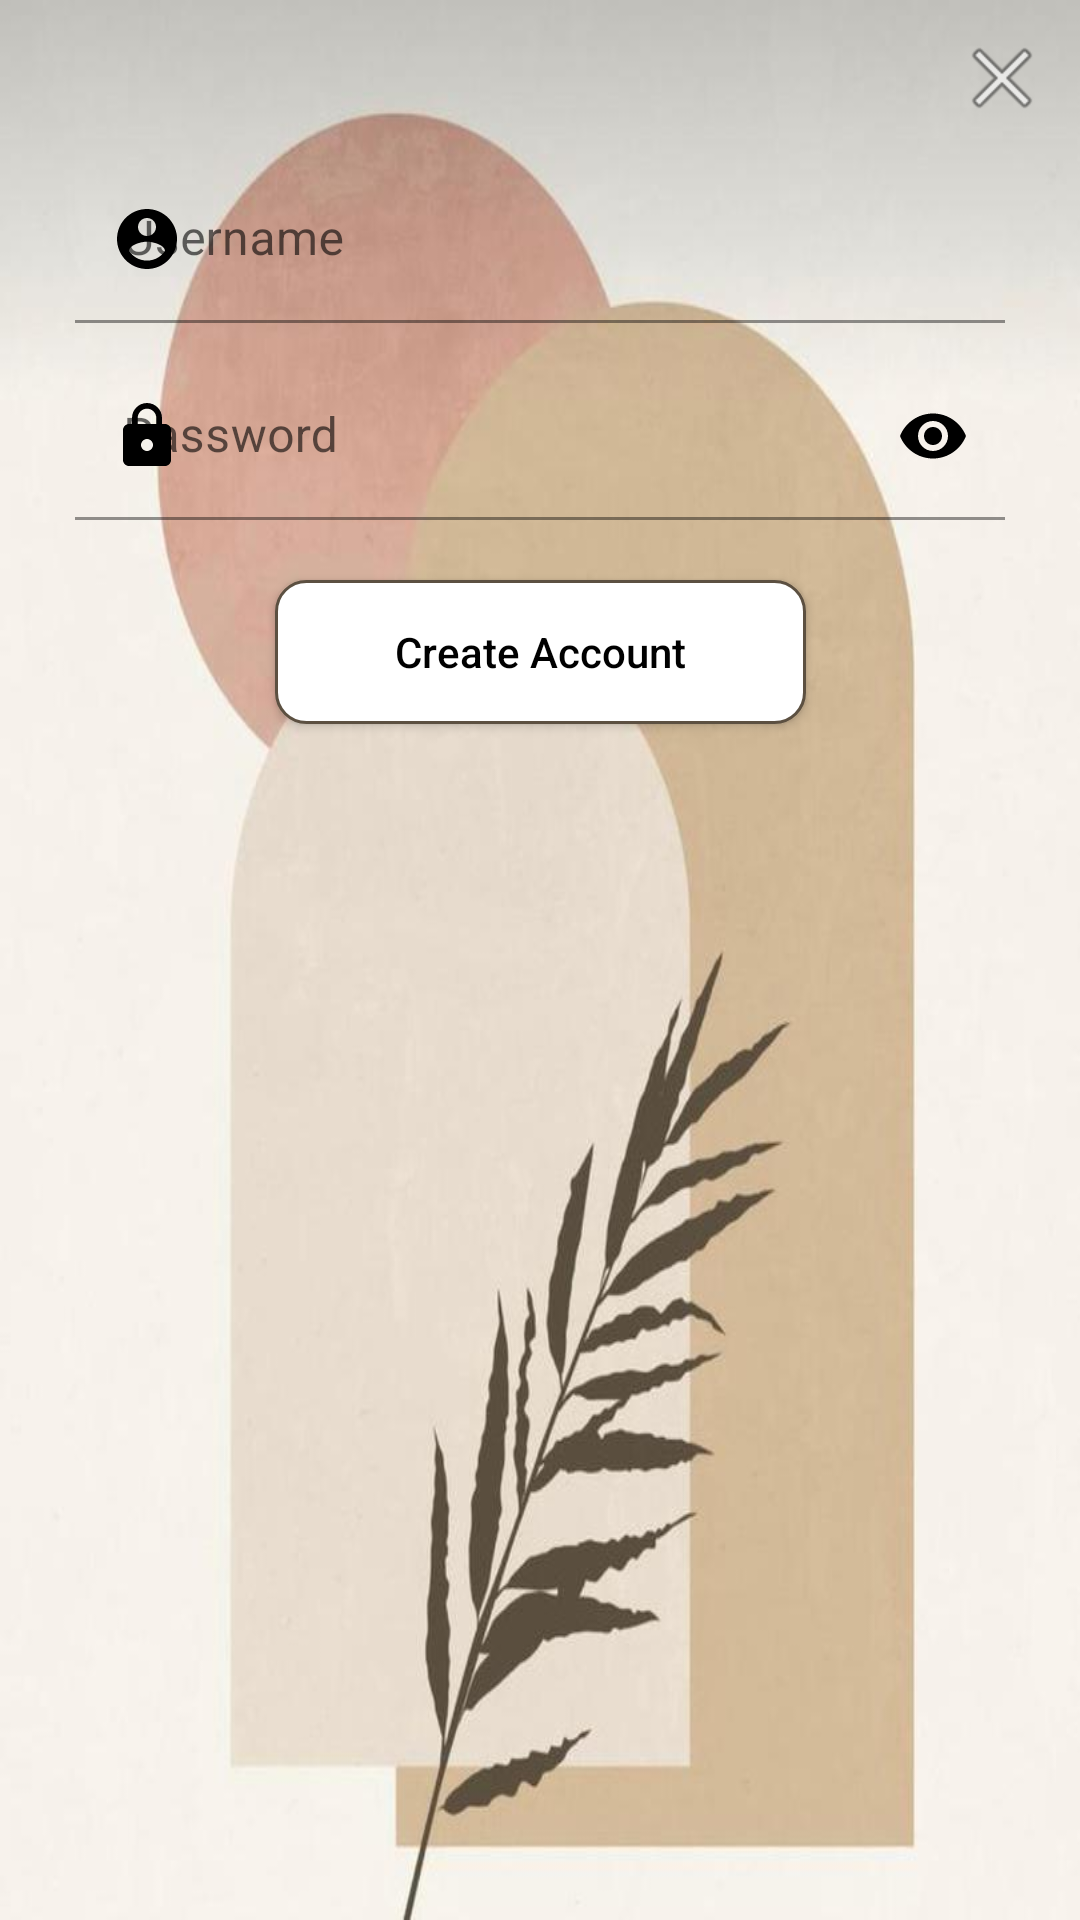

Where to tap for icons on this 1080×1920 app screen, as [x,y]:
close clear cancel: [1002,78]
